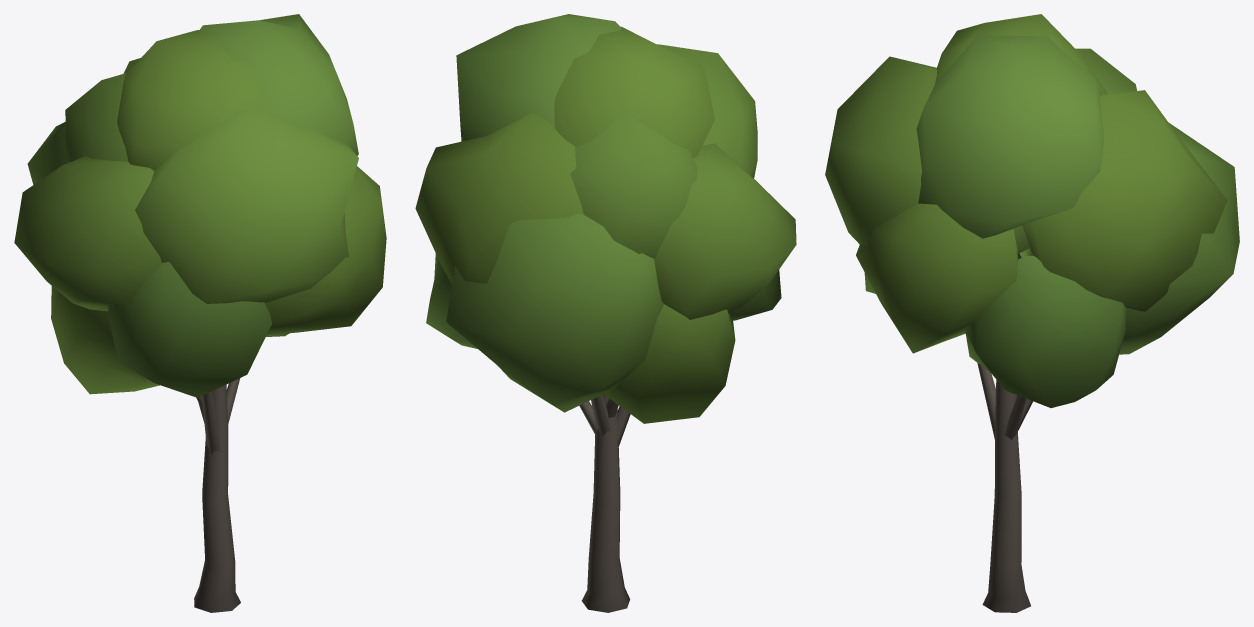
The model's file is tree_lime.glb.
3 renders of one model, left to right at view 1: azimuth 30°, elevation 25°; view 2: azimuth 150°, elevation 25°; view 3: azimuth 270°, elevation 25°, orthographic.
Visible parts, largest first — view 1: tree_lime; view 2: tree_lime; view 3: tree_lime.
Boxes of the visible parts, x1=… form: tree_lime: x1=14, y1=14, x2=386, y2=612; tree_lime: x1=415, y1=14, x2=796, y2=612; tree_lime: x1=825, y1=14, x2=1239, y2=612.
Bounding box in the file's own units: 10.32 × 16.57 × 10.78.
